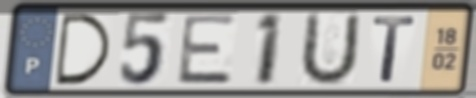1: (253, 10, 283, 89)
5: (117, 9, 174, 90)
D: (53, 11, 116, 88)
E: (174, 12, 240, 87)
T: (370, 14, 418, 86)
U: (295, 10, 364, 89)
